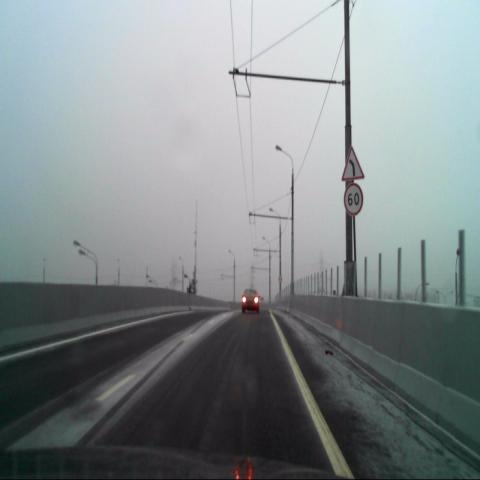1_11_1: (341, 144, 365, 181)
